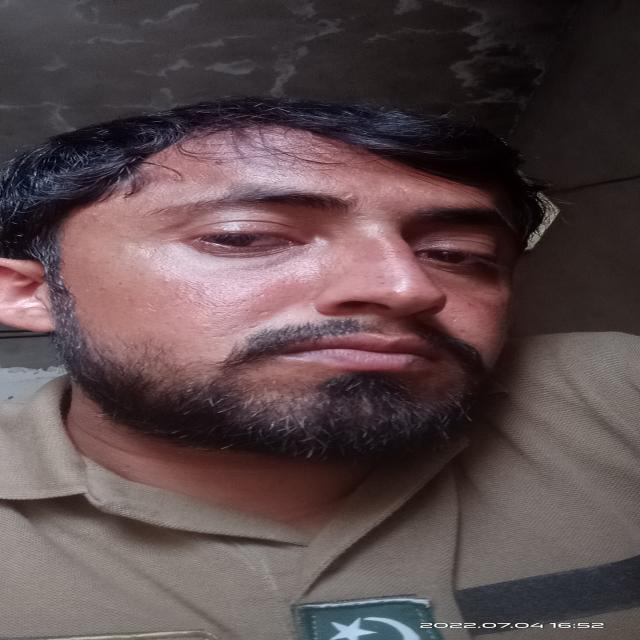acne: (375, 280, 392, 286), (88, 212, 102, 218), (160, 278, 170, 284)
pores: (172, 276, 268, 334)
